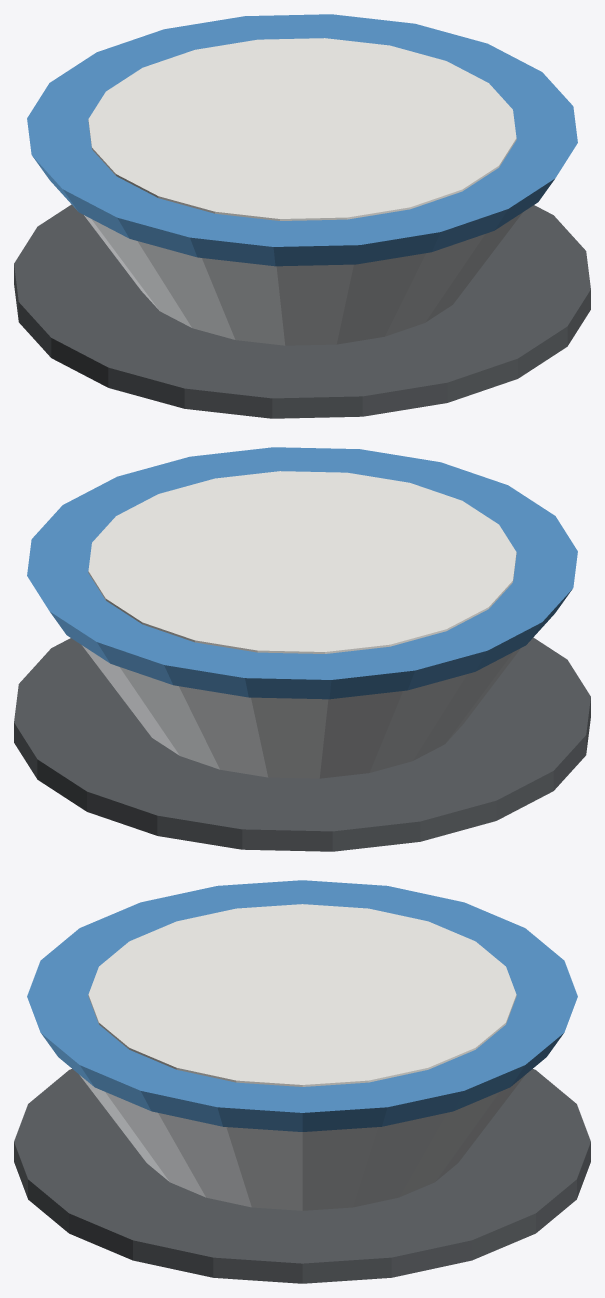
Rendered from boarding-kennels-and-cattery-boarding-kennels-and-catt-c943f99d__35540.glb.
3 renders of one model, top to bottom at view 1: azimuth 30°, elevation 25°; view 2: azimuth 150°, elevation 25°; view 3: azimuth 270°, elevation 25°, orthographic.
Parts seen in each view (by area): view 1: boarding-kennels-and-cattery-feed-bowl; view 2: boarding-kennels-and-cattery-feed-bowl; view 3: boarding-kennels-and-cattery-feed-bowl.
Boxes of the visible parts, left/top/right/bottom form: boarding-kennels-and-cattery-feed-bowl: left=14, top=14, right=590, bottom=418; boarding-kennels-and-cattery-feed-bowl: left=14, top=447, right=590, bottom=851; boarding-kennels-and-cattery-feed-bowl: left=14, top=880, right=590, bottom=1283.
Size of the model in its own units: 0.31 by 0.0992 by 0.31.
